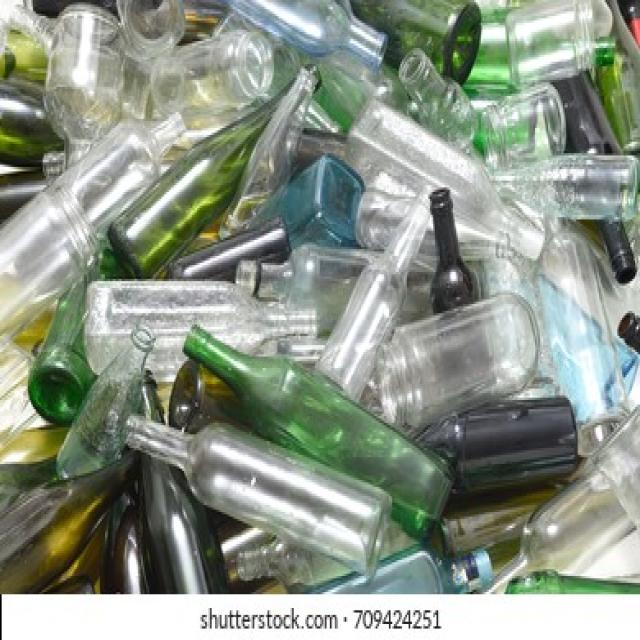glass: (47, 98, 628, 585), (127, 18, 296, 110)
